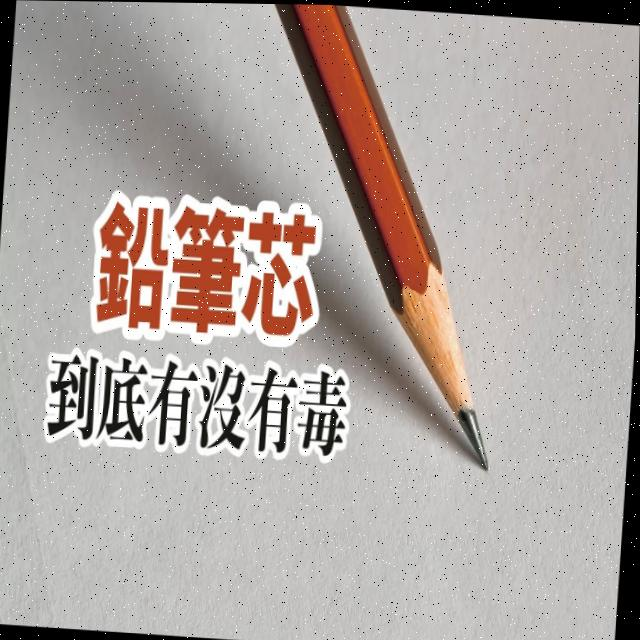pencil: (270, 4, 497, 492)
